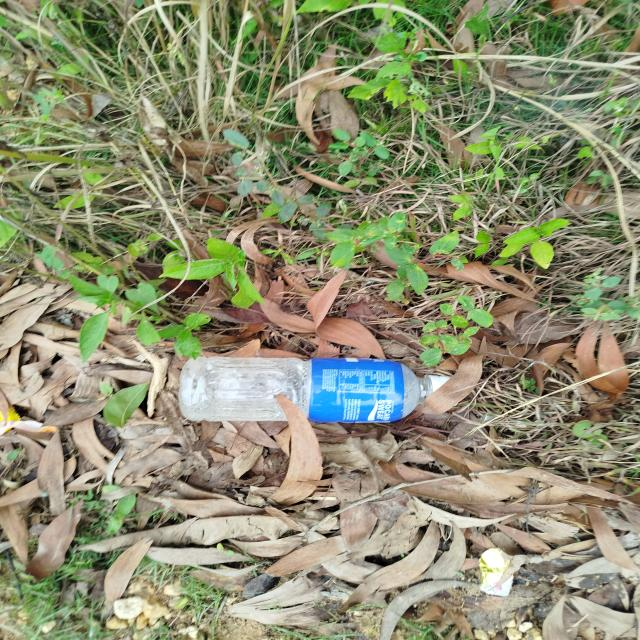plastic: (175, 343, 465, 440)
